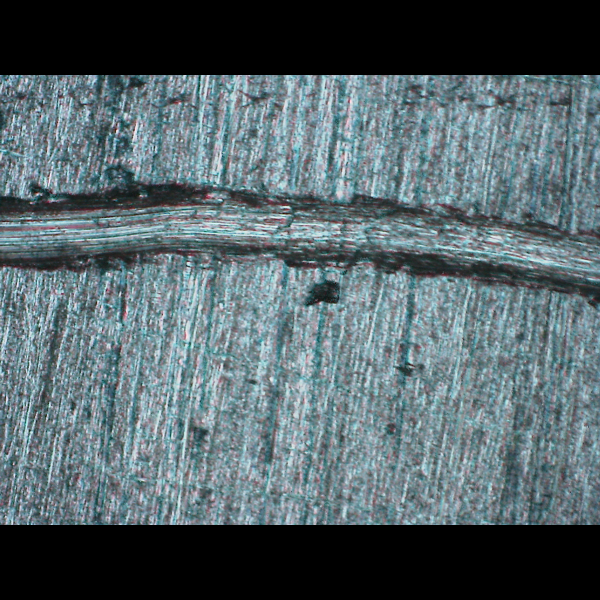d: (0, 179, 599, 312)
